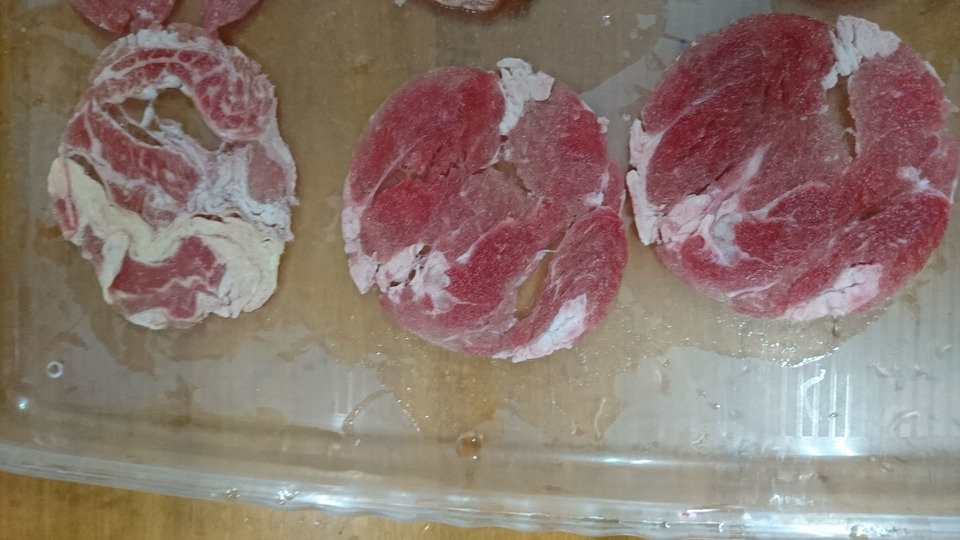restructured meat: (632, 5, 954, 330), (344, 71, 626, 364), (38, 53, 316, 339)
